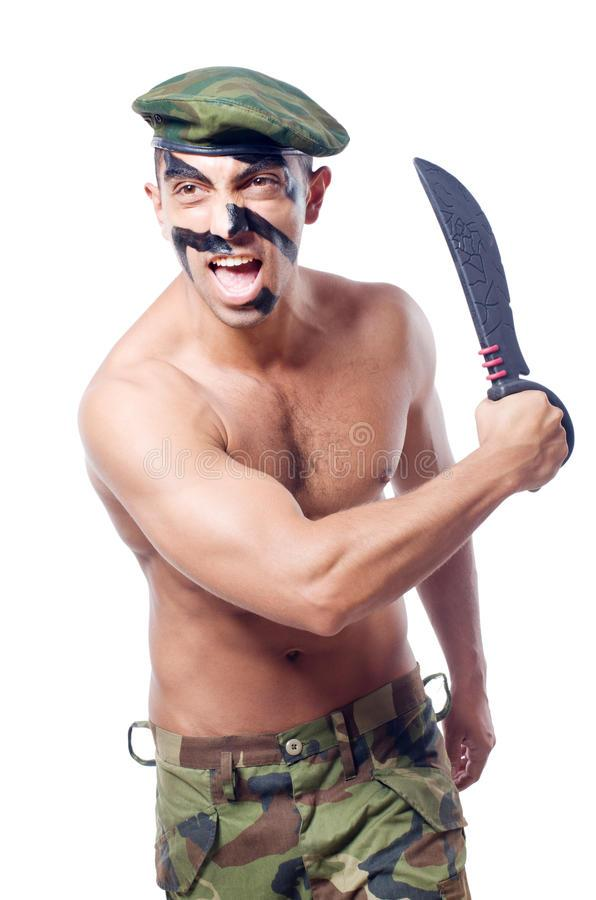criminal: (78, 56, 580, 900)
weapon: (410, 152, 579, 490)
